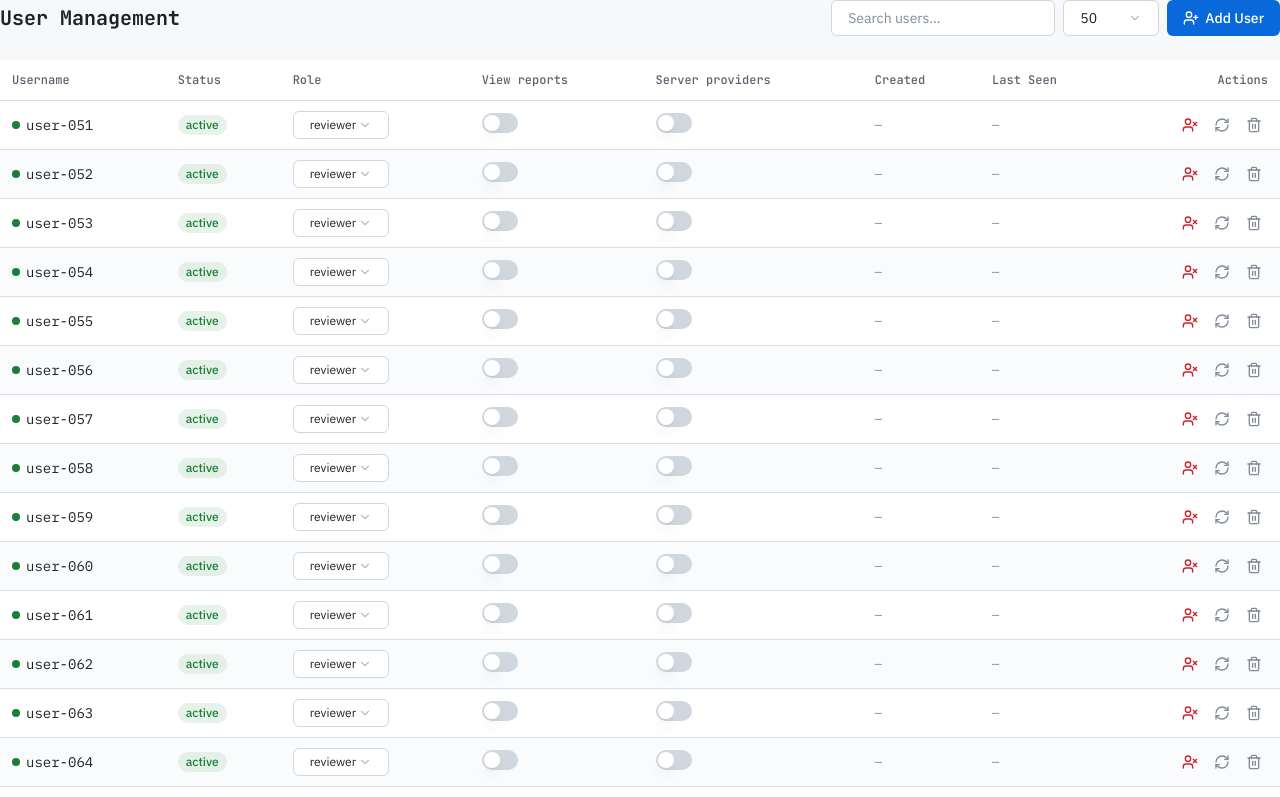
Test: UsersPage pagination › debounces the search into q and returns to the first window
The image size is (1280, 797).
Expected: the text "user-051" is shown, [12,115,93,135]
In the field labelled "Search users": (943, 18) [831,0,1055,36], type "user-13"
Wait 300 ms
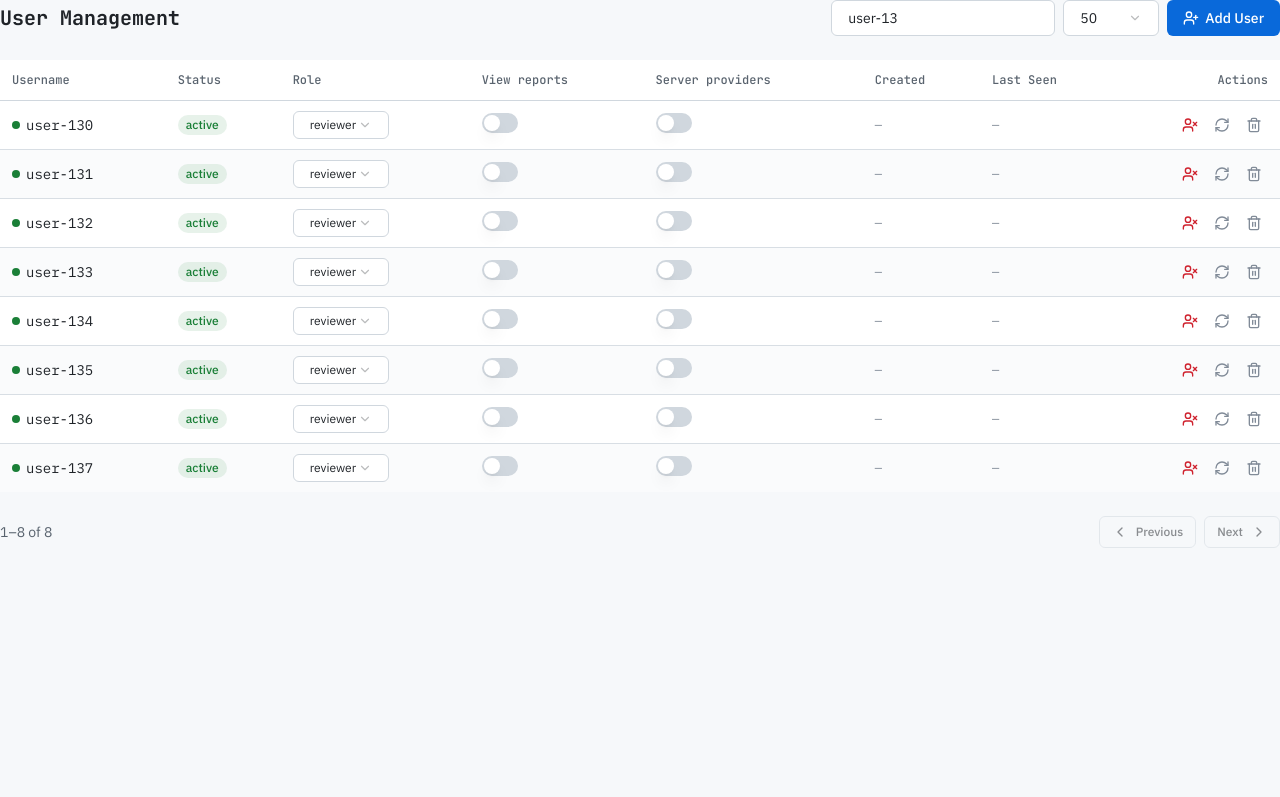
Expected: the message reads "1–8 of 8", [0,522,52,542]
Expected: the text "user-137" is shown, [12,458,93,478]
